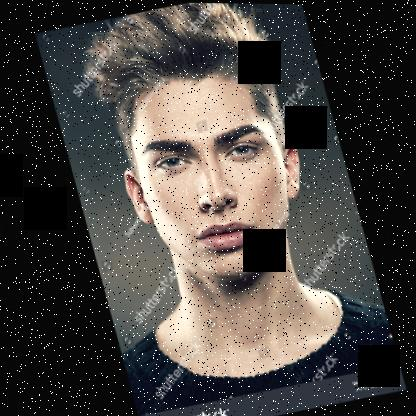Male: (97, 61, 324, 291)
